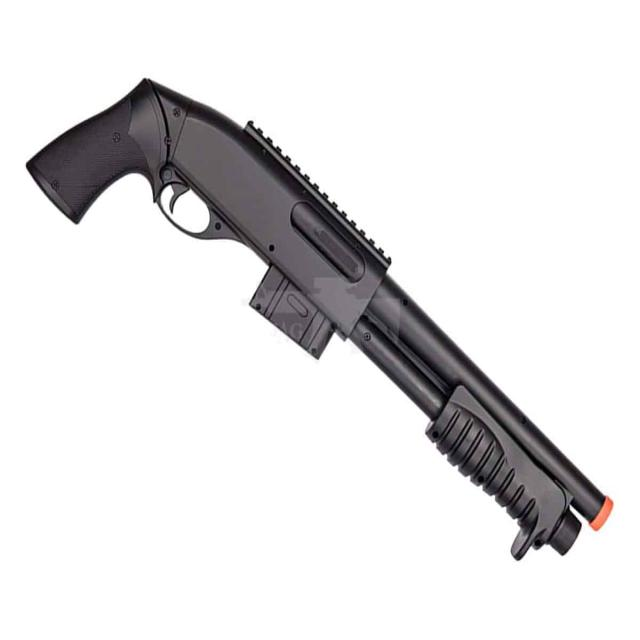ShotGun: (24, 78, 614, 562)
